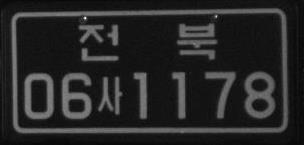0: (22, 71, 55, 120)
1: (129, 71, 154, 120), (166, 71, 191, 120)
6: (60, 71, 92, 120)
7: (203, 70, 237, 119)
8: (243, 70, 276, 120)
사: (97, 75, 123, 116)
전북_D: (78, 21, 217, 60)
